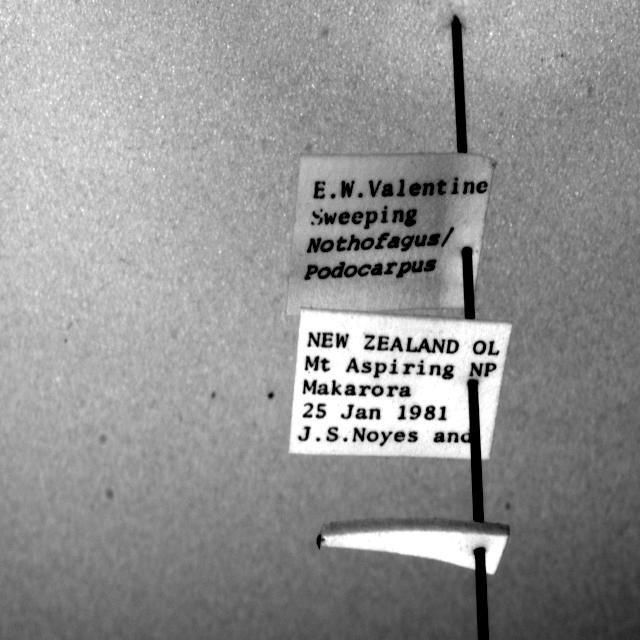typed_label: (288, 154, 495, 315), (289, 309, 511, 459)
